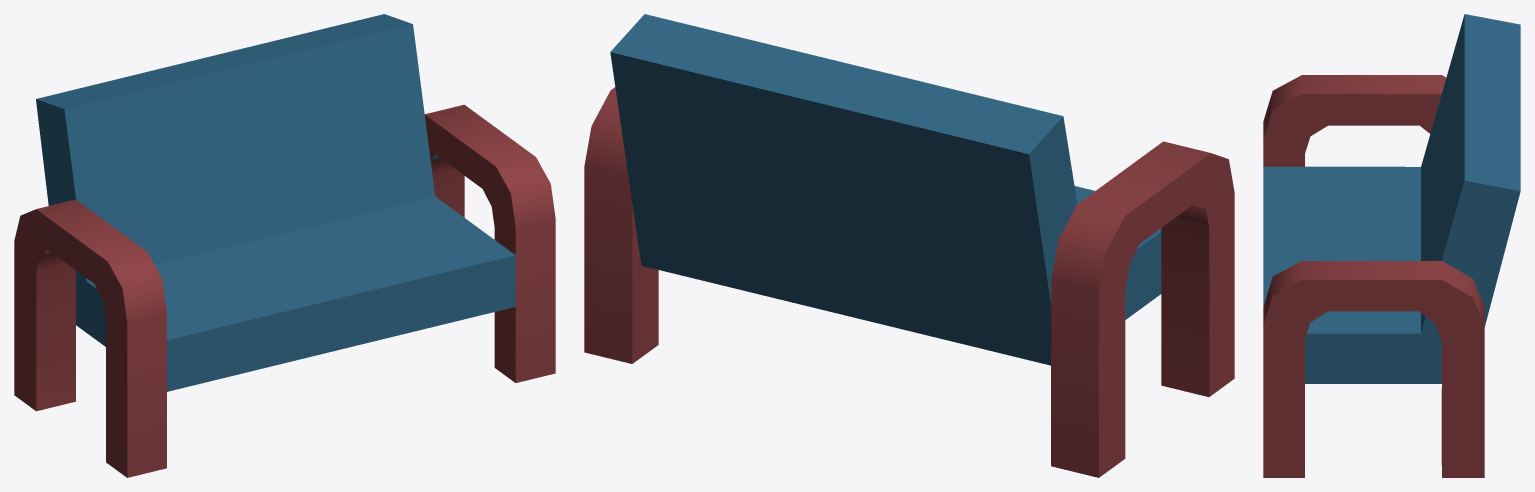
File: bench_03.fbx
3 renders of one model, left to right at view 1: azimuth 30°, elevation 25°; view 2: azimuth 150°, elevation 25°; view 3: azimuth 270°, elevation 25°, orthographic. The views are drawn at different scales.
Parts seen in each view (by area): view 1: bench_03; view 2: bench_03; view 3: bench_03.
Boxes of the visible parts, <box> form: bench_03: <box>14,14,555,477</box>; bench_03: <box>584,14,1234,477</box>; bench_03: <box>1263,14,1520,477</box>.
Size of the model in its own units: 127 by 80.56 by 67.53.
